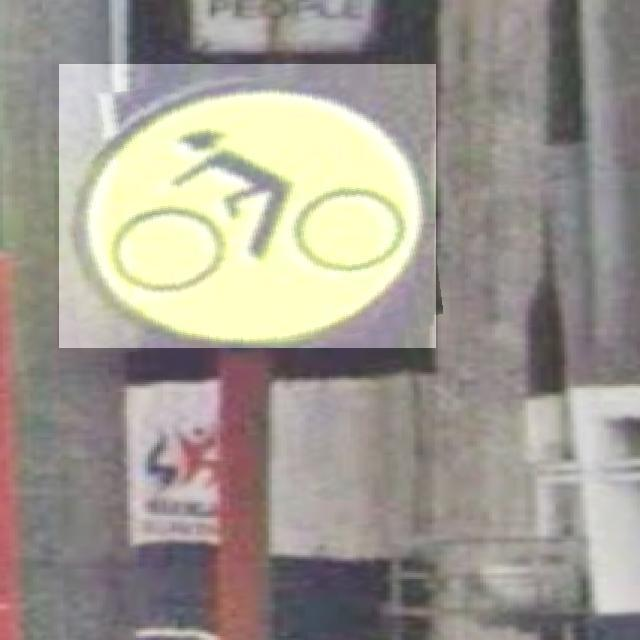bike lane: (59, 64, 436, 348)
